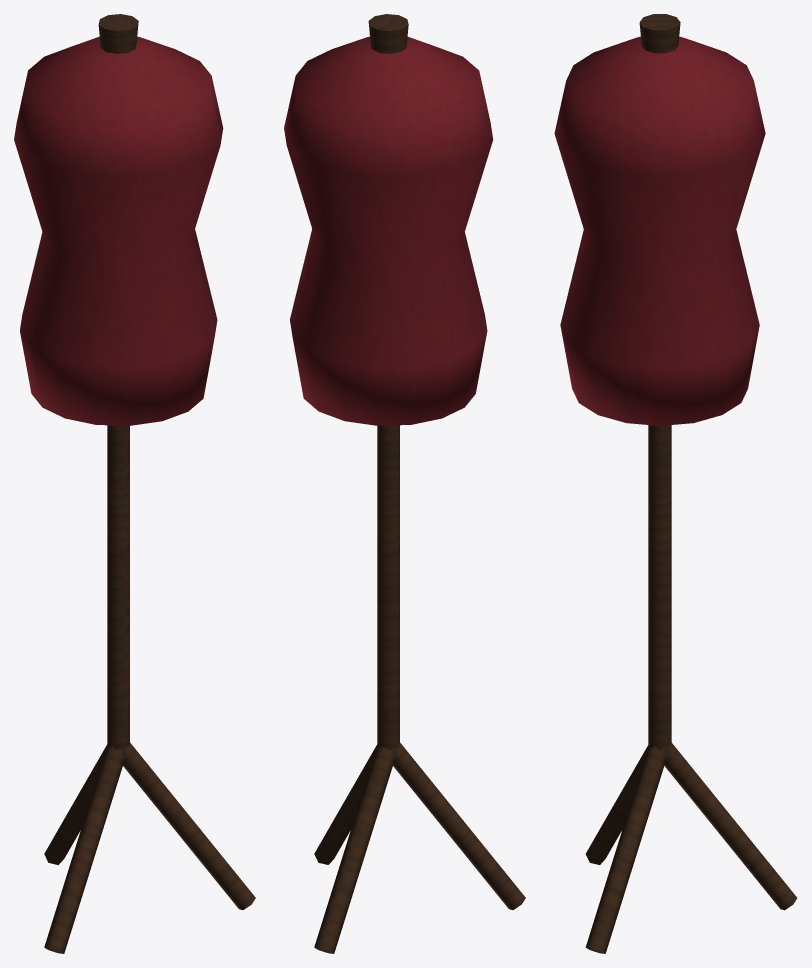
Rendered from dressForm.glb.
3 views of the same model, side by side, from view 1: azimuth 30°, elevation 25°; view 2: azimuth 150°, elevation 25°; view 3: azimuth 270°, elevation 25° (orthographic).
Visible parts, largest first — view 1: dressForm; view 2: dressForm; view 3: dressForm.
Part boxes in pixels (x1,y1,x2,y2): dressForm: [14, 14, 255, 953]; dressForm: [284, 14, 525, 953]; dressForm: [554, 14, 797, 953].
Size of the model in its own units: 0.4093 by 1.67 by 0.4148.
Materials: 2 (2 with a texture image).
